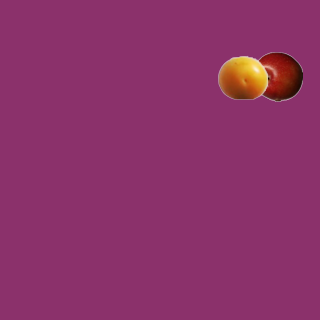Apple Braeburn: (252, 51, 302, 101)
Cherry Wax Yellow: (217, 52, 267, 102)
